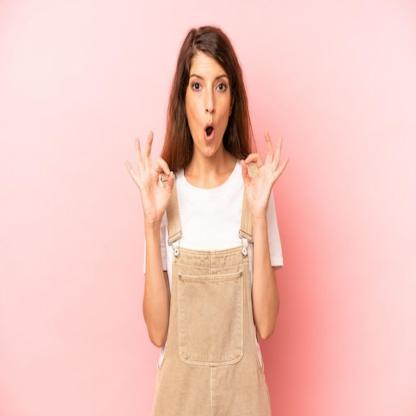ok: (124, 128, 177, 224), (239, 124, 291, 213)
